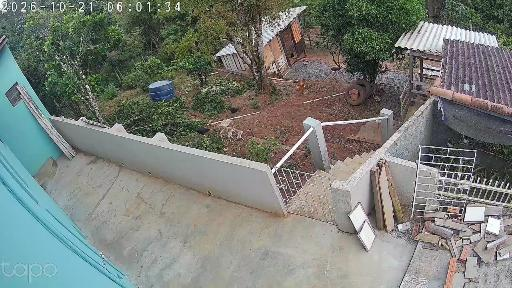galinha: (191, 127, 212, 136), (372, 92, 381, 104), (228, 107, 239, 116), (418, 93, 428, 99), (234, 76, 242, 83)
galo: (296, 78, 305, 96)
